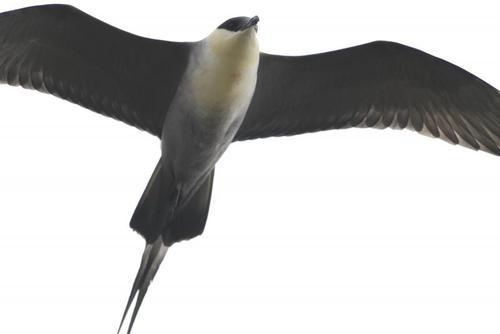bird: (2, 6, 500, 330)
